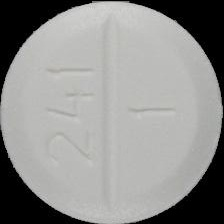50436-3960: (0, 0, 224, 224)
